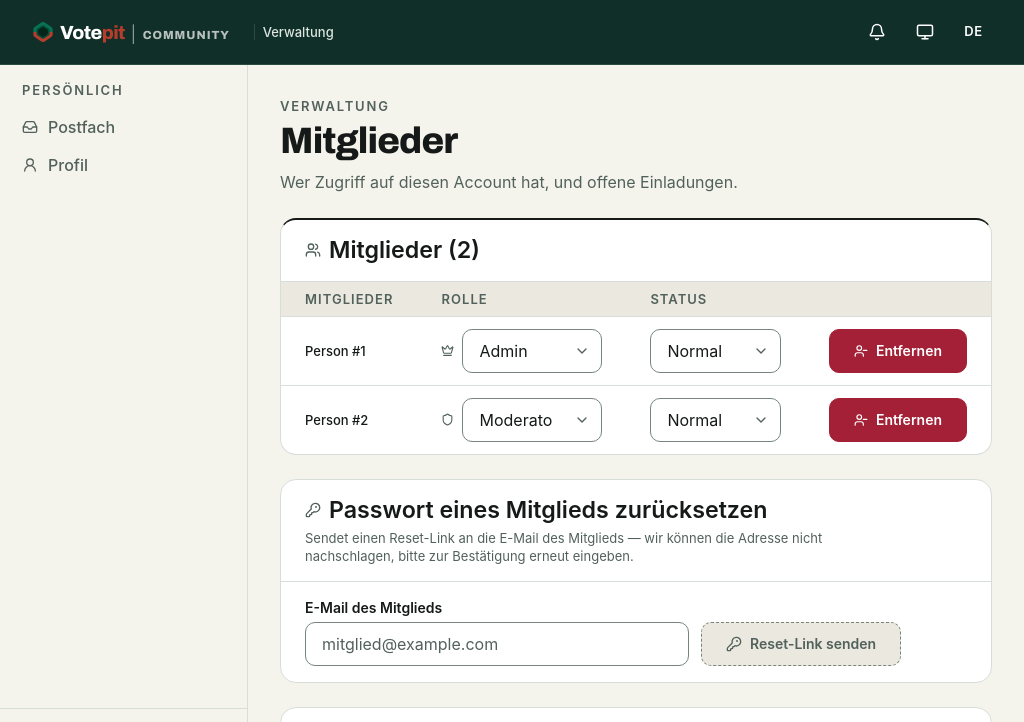
Test: MembersPage — remove member › sends a remove request and reloads the list
Click the button with aria-label "Person #2 entfernen": [898, 420] box [829,398,967,442]
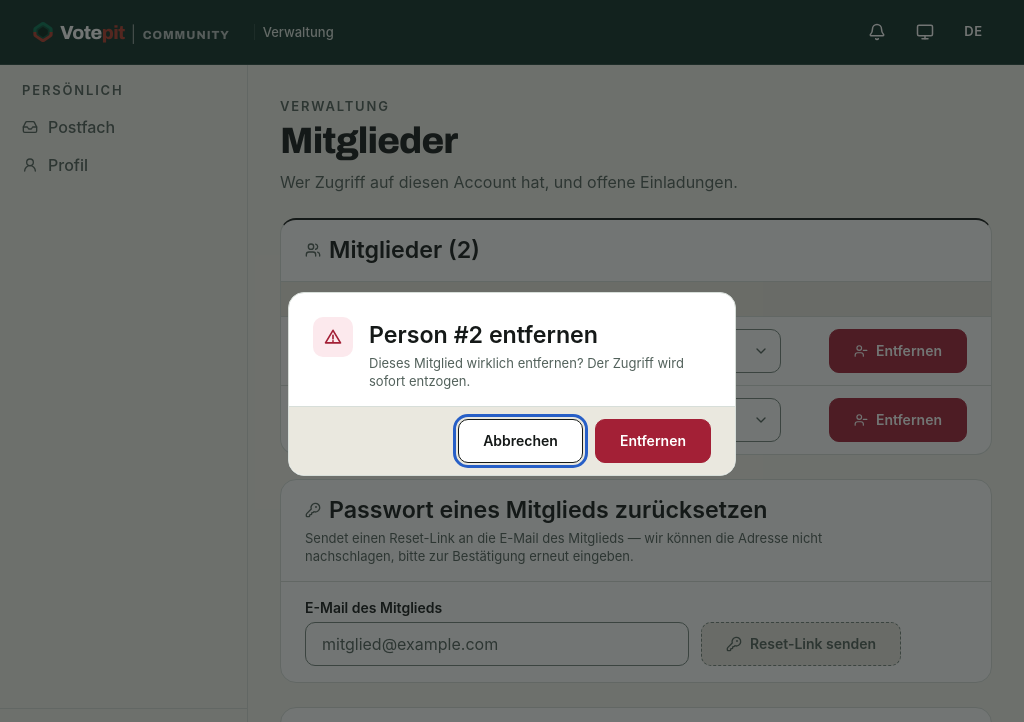
Click the button "Entfernen": [653, 441] box [595,419,711,463]
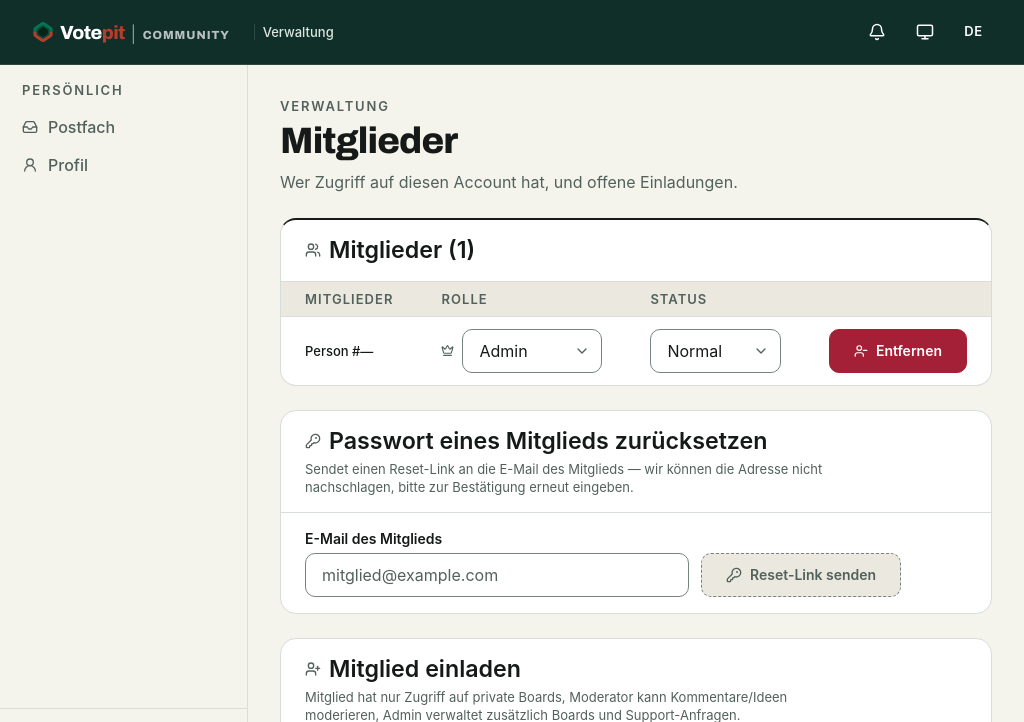
Check: the text "Person #2" is gone
